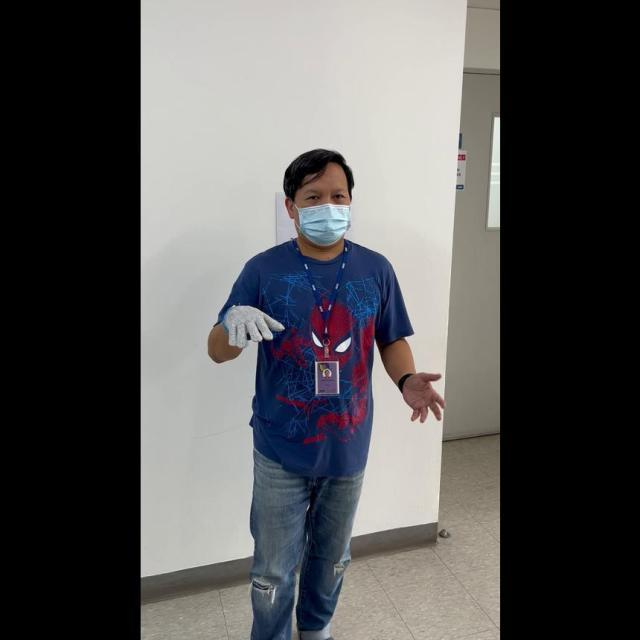bare_hand: (400, 370, 445, 425)
gloved_hand: (219, 295, 284, 353)
